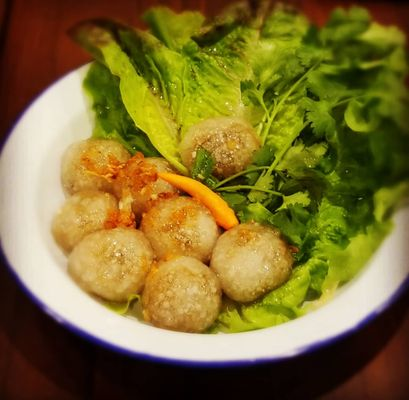curry: (68, 2, 403, 187)
sushi: (2, 2, 408, 390)
